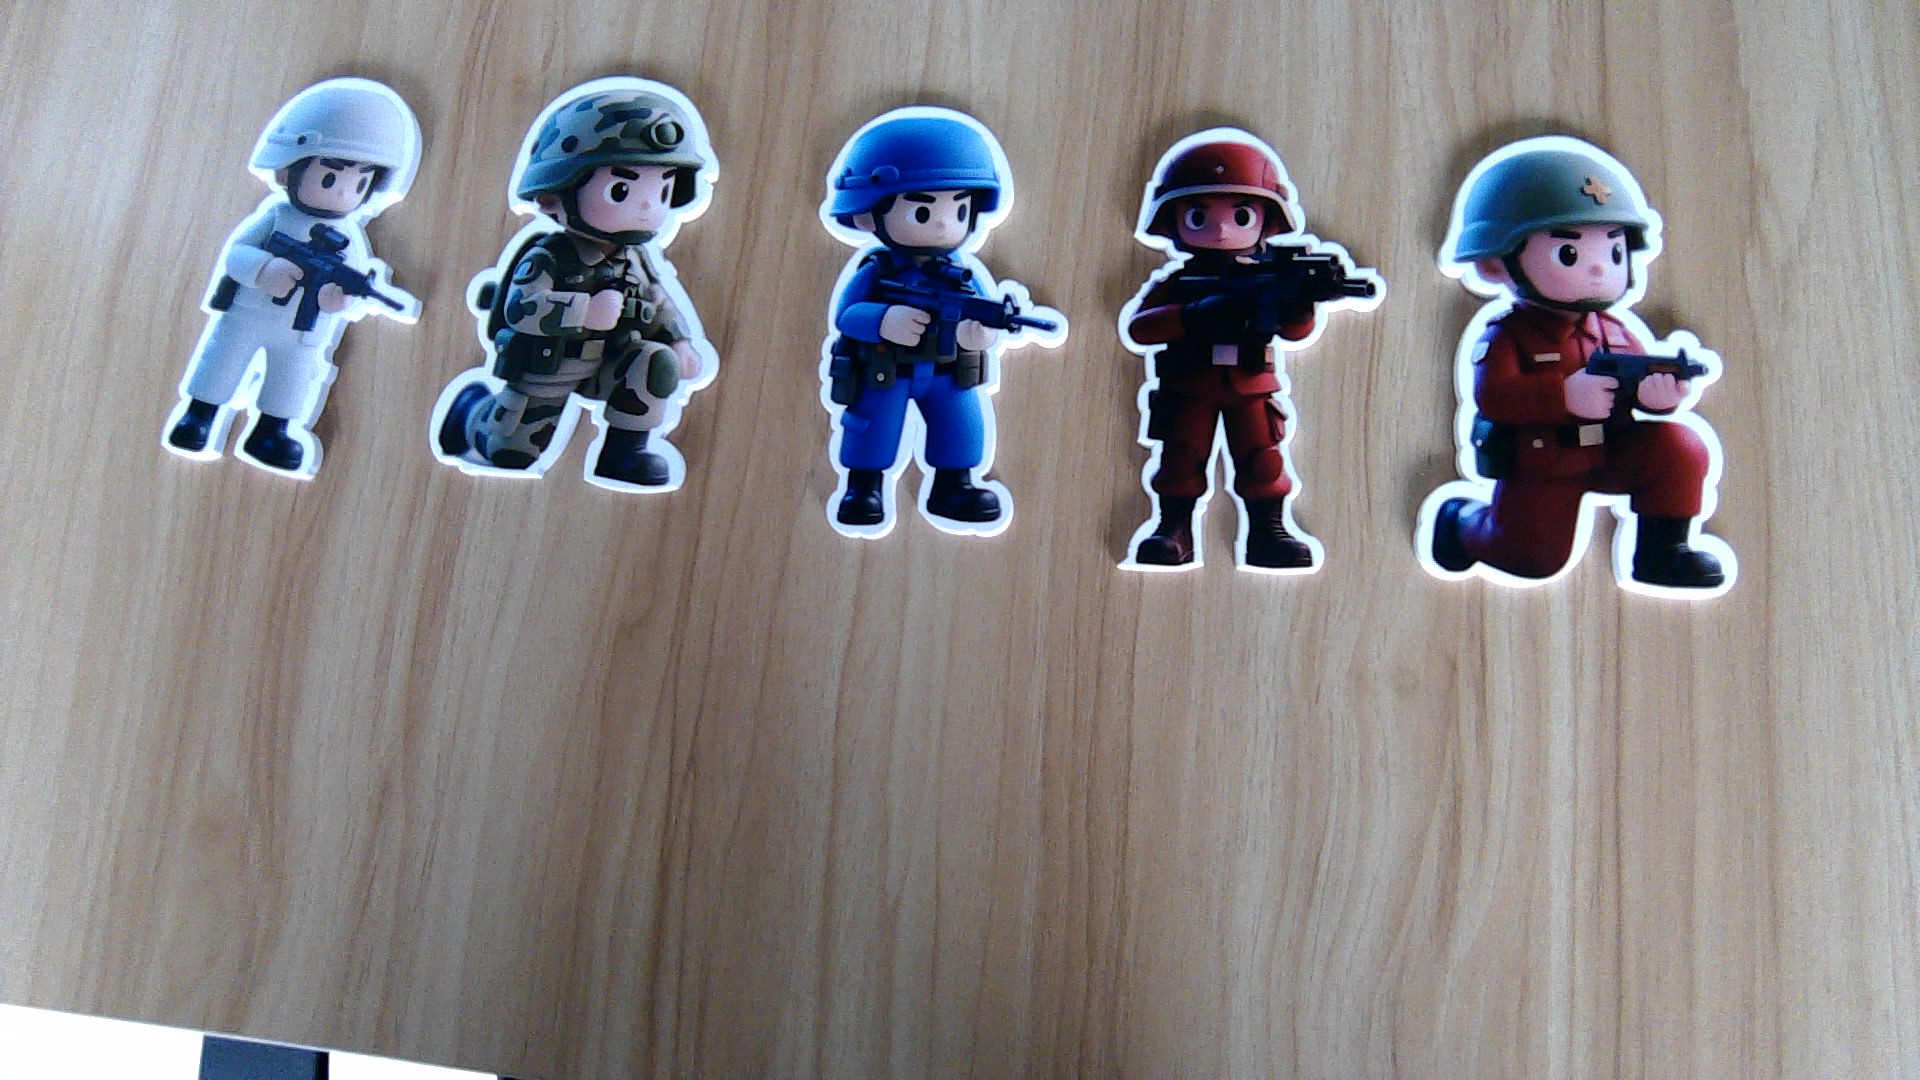人质: (161, 216, 422, 480)
友军: (425, 240, 723, 498)
敌人1: (1415, 306, 1742, 603), (1106, 258, 1385, 576)
敌人2: (812, 249, 1067, 534)
